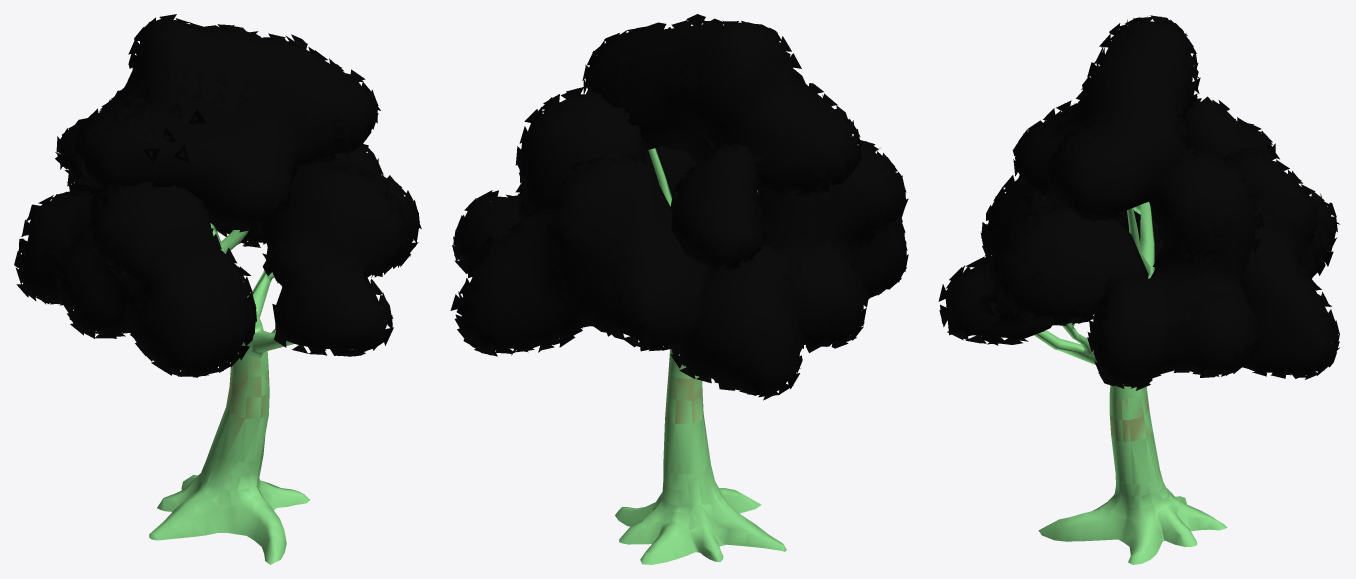
Rendered from SM_ENV_LKNVLD_Tree_A.gltf.
3 views of the same model, side by side, from view 1: azimuth 30°, elevation 25°; view 2: azimuth 150°, elevation 25°; view 3: azimuth 270°, elevation 25° (orthographic). The views are drawn at different scales.
Visible parts, largest first — view 1: SM_ENV_LKNVLD_Tree_A; view 2: SM_ENV_LKNVLD_Tree_A; view 3: SM_ENV_LKNVLD_Tree_A.
Part boxes in pixels (x1,y1,x2,y2): SM_ENV_LKNVLD_Tree_A: [14, 14, 421, 564]; SM_ENV_LKNVLD_Tree_A: [450, 14, 908, 564]; SM_ENV_LKNVLD_Tree_A: [938, 15, 1340, 564].
Bounding box in the file's own units: 10.05 × 13.93 × 10.27.
